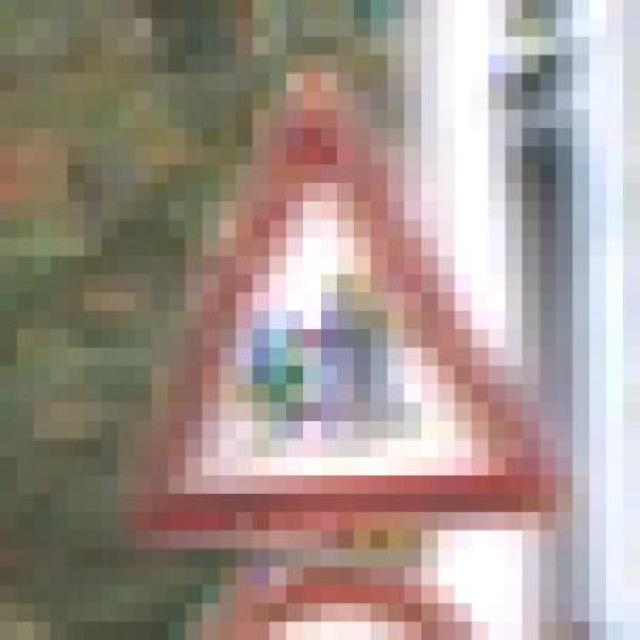Beware of children: (101, 36, 573, 530)
